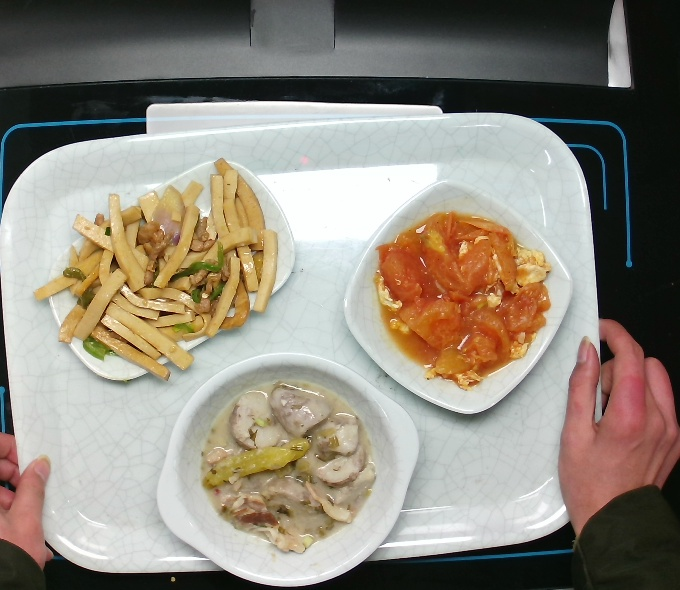wcq-FanQieChaoDan: (366, 206, 558, 394)
wcq-QianYeDouFu: (29, 153, 282, 384)
wcq-YangYu: (196, 376, 381, 557)
